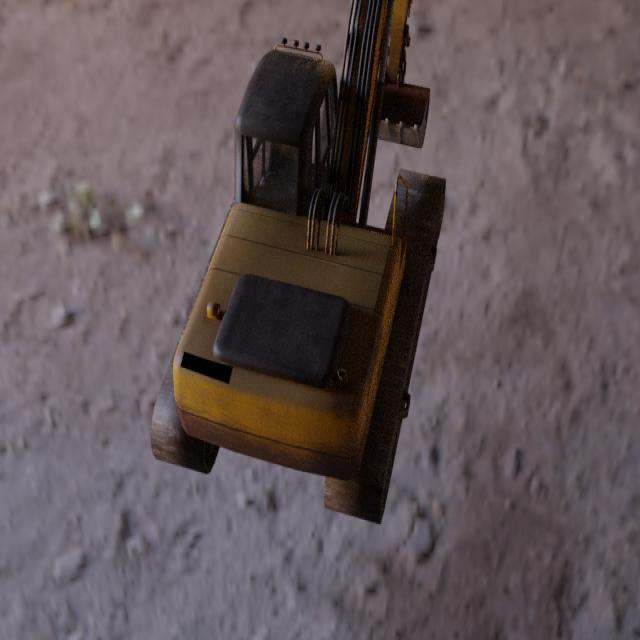excavator: (150, 0, 446, 525)
